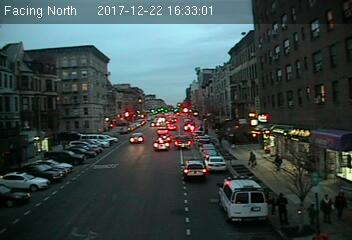car: (180, 159, 207, 182), (172, 134, 193, 149), (205, 156, 225, 170), (150, 139, 171, 151), (128, 132, 144, 144)
police: (215, 175, 269, 223)
